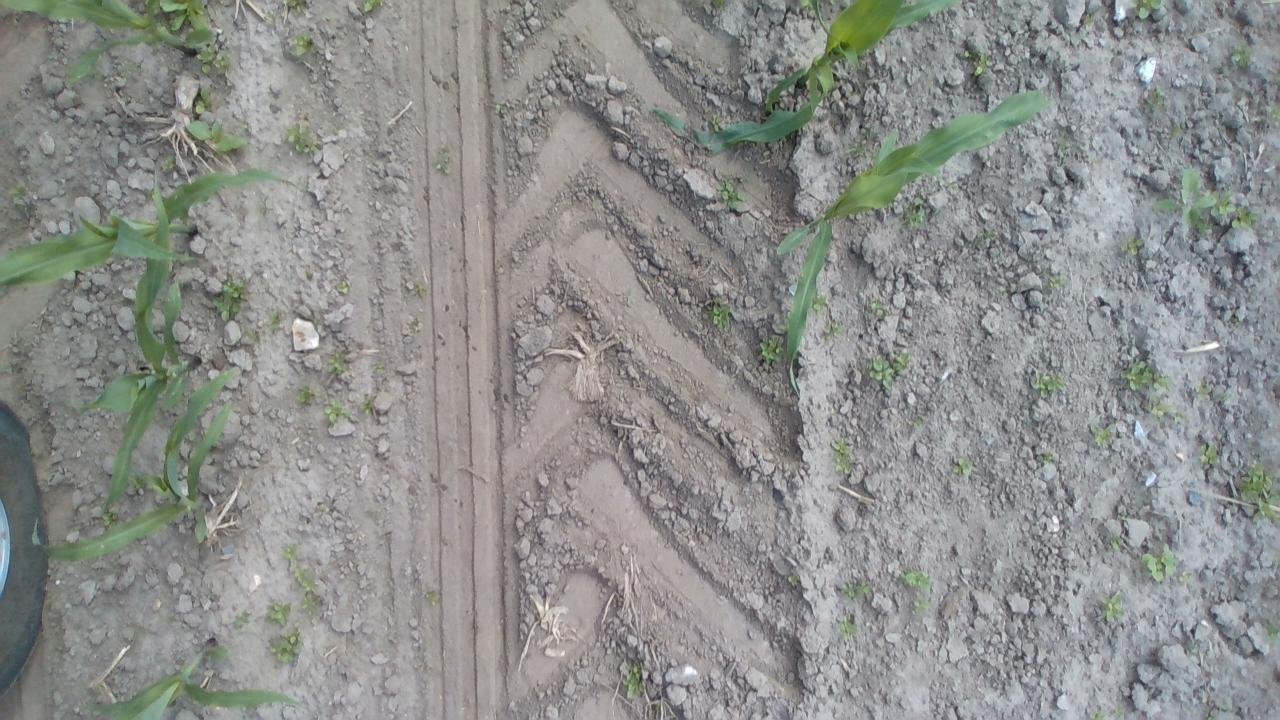Maize: (776, 90, 1050, 401), (650, 1, 964, 154), (72, 167, 203, 514), (30, 368, 234, 562), (0, 165, 297, 294), (0, 0, 215, 91), (92, 637, 300, 720), (810, 0, 830, 35)
Weeds: (1146, 166, 1214, 230), (1236, 459, 1280, 522), (184, 116, 246, 154), (210, 274, 250, 322), (1140, 540, 1178, 586), (865, 351, 910, 388), (264, 626, 306, 664), (714, 172, 750, 212), (162, 0, 208, 30), (1052, 122, 1082, 164), (1119, 354, 1151, 391), (284, 120, 318, 154), (842, 124, 874, 158), (1030, 367, 1066, 397), (840, 574, 873, 606), (704, 294, 731, 333), (900, 192, 927, 230), (1205, 184, 1235, 218), (197, 46, 231, 76), (288, 560, 319, 591), (962, 47, 992, 79), (1096, 592, 1124, 626), (288, 30, 320, 59), (1226, 202, 1260, 228), (831, 436, 854, 474), (1142, 86, 1171, 116), (900, 565, 934, 590), (759, 334, 785, 366), (262, 601, 293, 626), (1230, 42, 1256, 70), (322, 396, 348, 424), (624, 662, 644, 698), (970, 224, 1000, 248), (838, 611, 861, 640), (1132, 0, 1163, 21), (864, 293, 888, 319), (908, 590, 931, 617), (1088, 424, 1116, 446), (432, 144, 452, 174), (1146, 395, 1168, 422), (194, 84, 212, 117), (1151, 370, 1174, 395), (326, 349, 346, 377), (951, 455, 975, 478), (1120, 234, 1145, 256), (300, 594, 322, 618), (1195, 372, 1213, 400), (1200, 440, 1220, 465), (358, 392, 378, 416), (267, 308, 285, 334), (296, 384, 317, 406), (132, 624, 155, 644), (1262, 618, 1280, 642), (1264, 103, 1280, 130), (1205, 703, 1230, 720), (232, 610, 252, 631), (811, 290, 830, 312), (408, 278, 428, 298), (422, 587, 441, 607), (824, 322, 846, 339), (1214, 387, 1235, 404), (1046, 272, 1065, 290), (1170, 406, 1190, 423), (1110, 533, 1126, 554), (1184, 636, 1199, 658), (284, 0, 306, 14), (363, 0, 384, 14), (8, 182, 24, 200), (710, 112, 724, 132), (161, 154, 175, 174), (282, 543, 298, 560), (130, 472, 146, 489), (334, 279, 352, 294), (368, 357, 383, 375), (1170, 121, 1184, 140), (905, 415, 923, 429), (494, 99, 508, 117), (100, 512, 118, 526), (625, 286, 636, 308), (406, 316, 419, 334), (1090, 706, 1104, 720), (1178, 570, 1192, 584), (1089, 156, 1105, 168), (248, 326, 260, 341), (265, 12, 278, 25), (1112, 706, 1124, 719), (1228, 315, 1241, 327), (712, 0, 726, 11), (1082, 13, 1093, 27), (1234, 88, 1248, 98), (788, 573, 797, 588), (1042, 452, 1052, 464), (1272, 70, 1280, 84)
